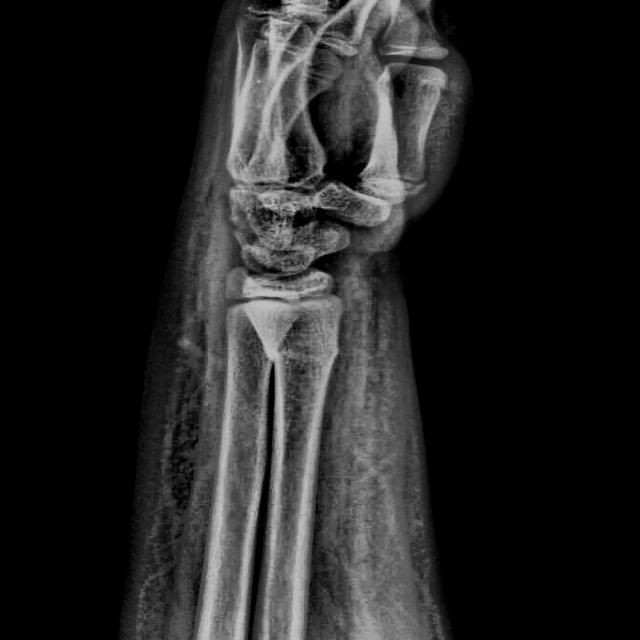fracture: (262, 348, 342, 364)
